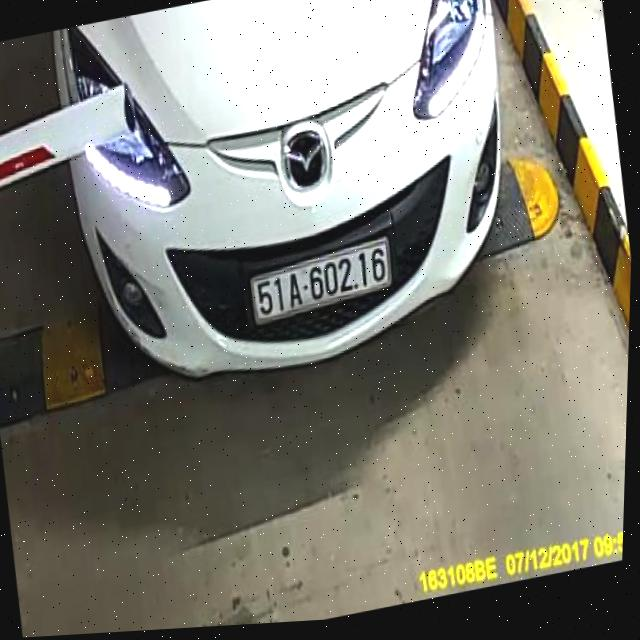car: (33, 0, 543, 419)
plate: (248, 232, 401, 329)
